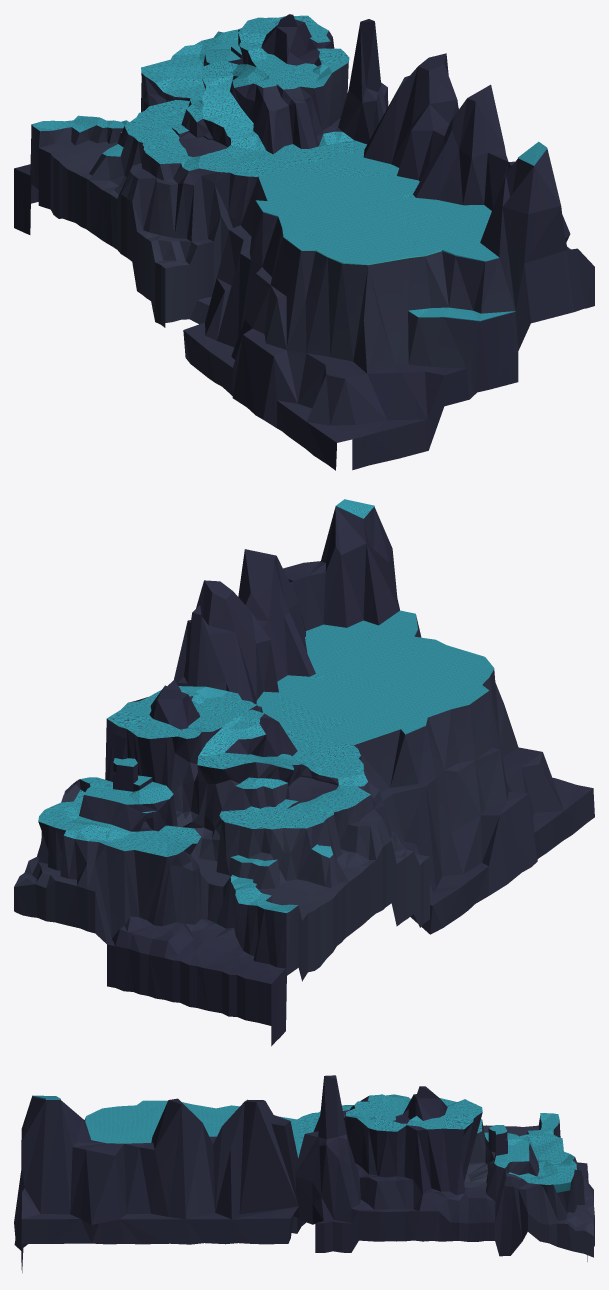
The model's file is Terrain_Downtown.fbx.
3 renders of one model, top to bottom at view 1: azimuth 30°, elevation 25°; view 2: azimuth 150°, elevation 25°; view 3: azimuth 270°, elevation 25°, orthographic. The views are drawn at different scales.
Parts seen in each view (by area): view 1: Mountains; view 2: Mountains; view 3: Mountains.
Boxes of the visible parts, box(x1,y1,x2,y2) form: Mountains: box(14, 14, 594, 470); Mountains: box(14, 499, 594, 1046); Mountains: box(14, 1075, 594, 1272).
Bounding box in the file's own units: 10727 × 10102 × 21206.
